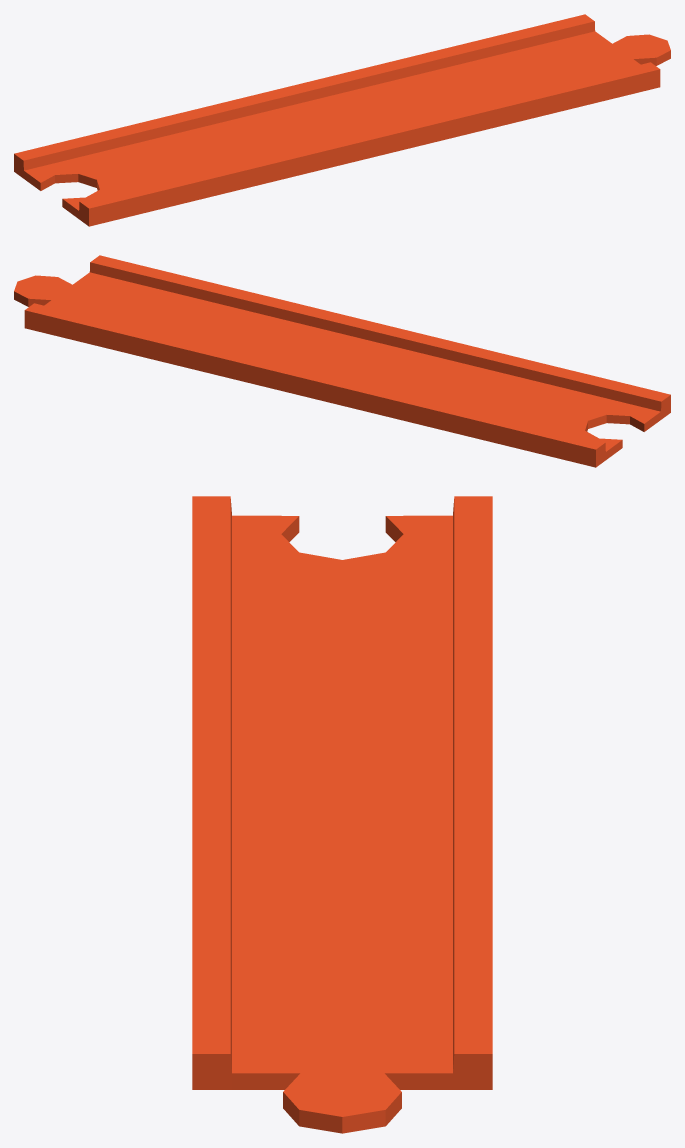
File: circuit_plat.fbx
3 renders of one model, top to bottom at view 1: azimuth 30°, elevation 25°; view 2: azimuth 150°, elevation 25°; view 3: azimuth 270°, elevation 25°, orthographic. The views are drawn at different scales.
Parts seen in each view (by area): view 1: Cube.003; view 2: Cube.003; view 3: Cube.003.
Part boxes in pixels (x1,y1,x2,y2): Cube.003: (14,14,670,226); Cube.003: (14,255,670,467); Cube.003: (192,496,492,1133).
Bounding box in the file's own units: 474 × 13.24 × 100.
